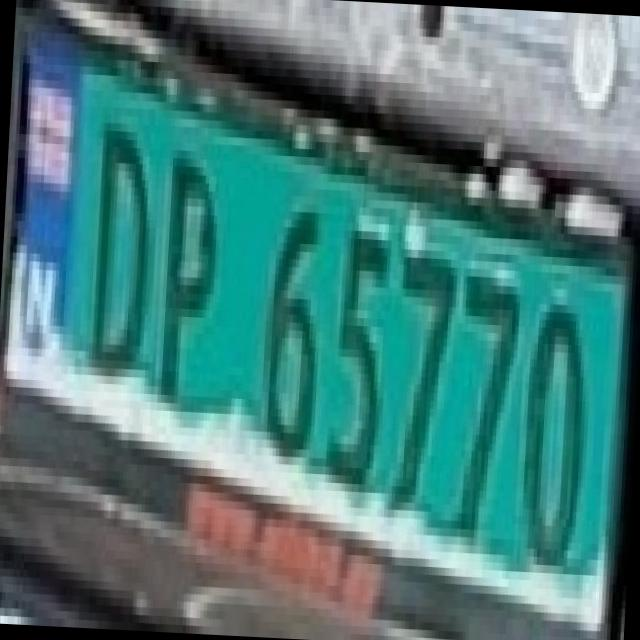1: (488, 262, 610, 584)
5: (308, 197, 401, 478)
6: (245, 186, 340, 467)
7: (413, 235, 537, 540), (368, 224, 463, 505)
9: (140, 125, 232, 406)
D: (74, 106, 170, 379)
